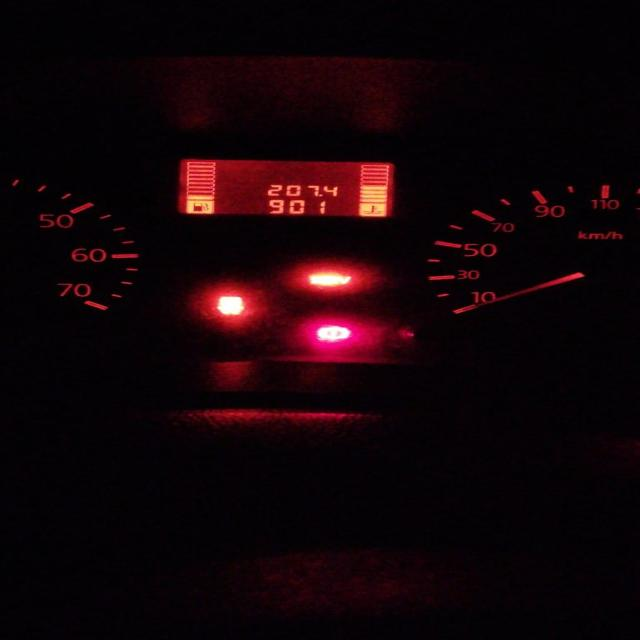odometer: (174, 158, 396, 218)
